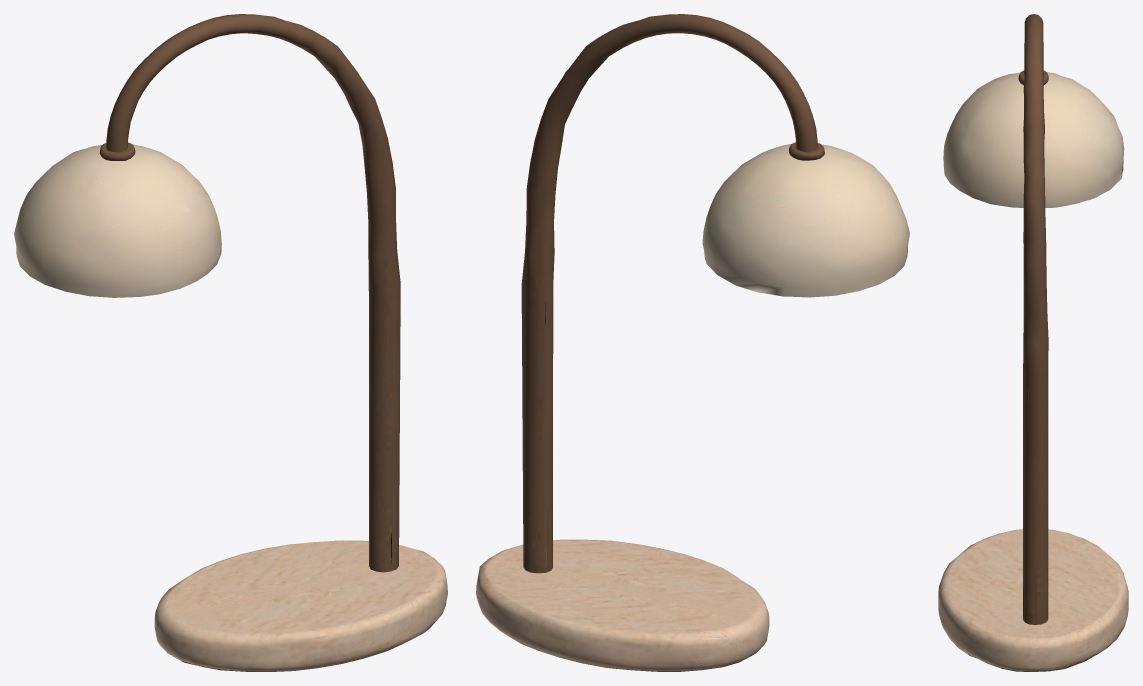
Rendered from arc-floor-lamp-v2.glb.
3 renders of one model, left to right at view 1: azimuth 30°, elevation 25°; view 2: azimuth 150°, elevation 25°; view 3: azimuth 270°, elevation 25°, orthographic. The views are drawn at different scales.
Parts seen in each view (by area): view 1: geometry_0; view 2: geometry_0; view 3: geometry_0.
Boxes of the visible parts, <box> form: geometry_0: <box>14,14,447,671</box>; geometry_0: <box>476,14,909,671</box>; geometry_0: <box>938,14,1128,671</box>.
Size of the model in its own units: 0.6494 by 0.9507 by 0.2949.
1 material, 1 textured.
